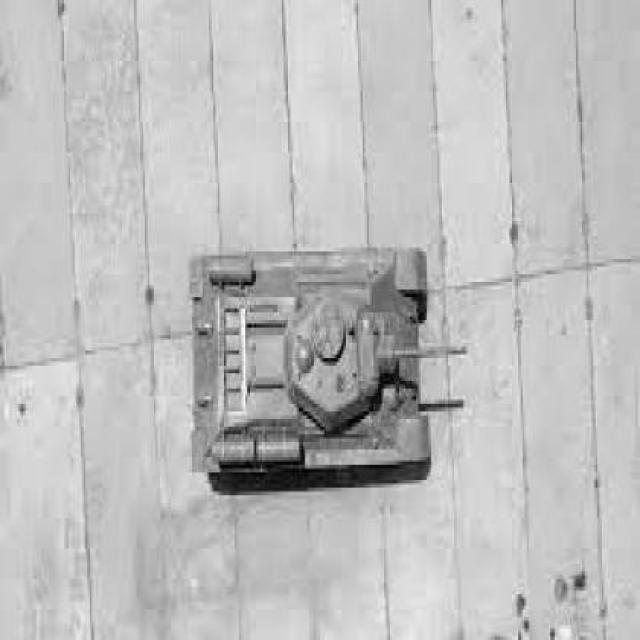Tanks: (188, 246, 470, 482)
